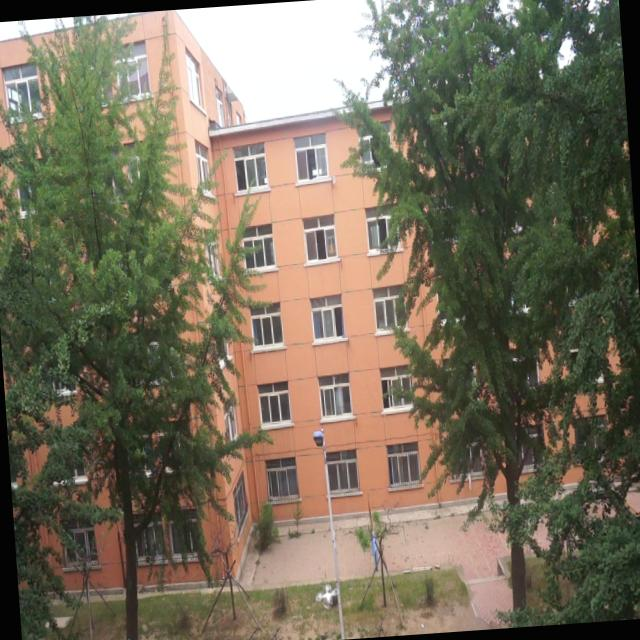drone: (314, 580, 339, 612)
